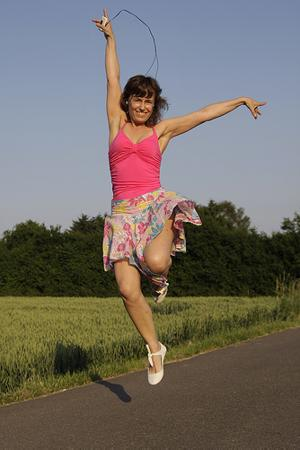person: (92, 5, 264, 387)
